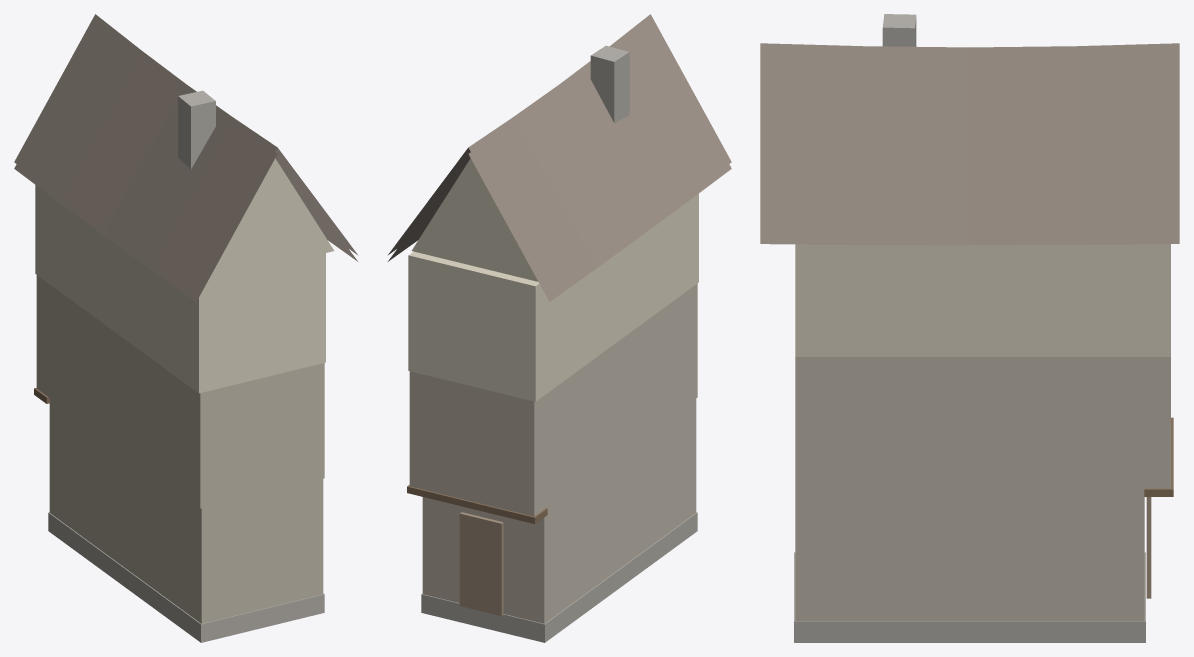
The model's file is house_narrow_a_lod1.glb.
3 views of the same model, side by side, from view 1: azimuth 30°, elevation 25°; view 2: azimuth 150°, elevation 25°; view 3: azimuth 270°, elevation 25° (orthographic). The views are drawn at different scales.
Visible parts, largest first — view 1: house_narrow_a_lod1; view 2: house_narrow_a_lod1; view 3: house_narrow_a_lod1.
Part boxes in pixels (<box>): house_narrow_a_lod1: <box>14,14,358,642</box>; house_narrow_a_lod1: <box>387,14,731,642</box>; house_narrow_a_lod1: <box>760,14,1179,642</box>.
Bounding box in the file's own units: 3.68 × 10.83 × 7.15.
